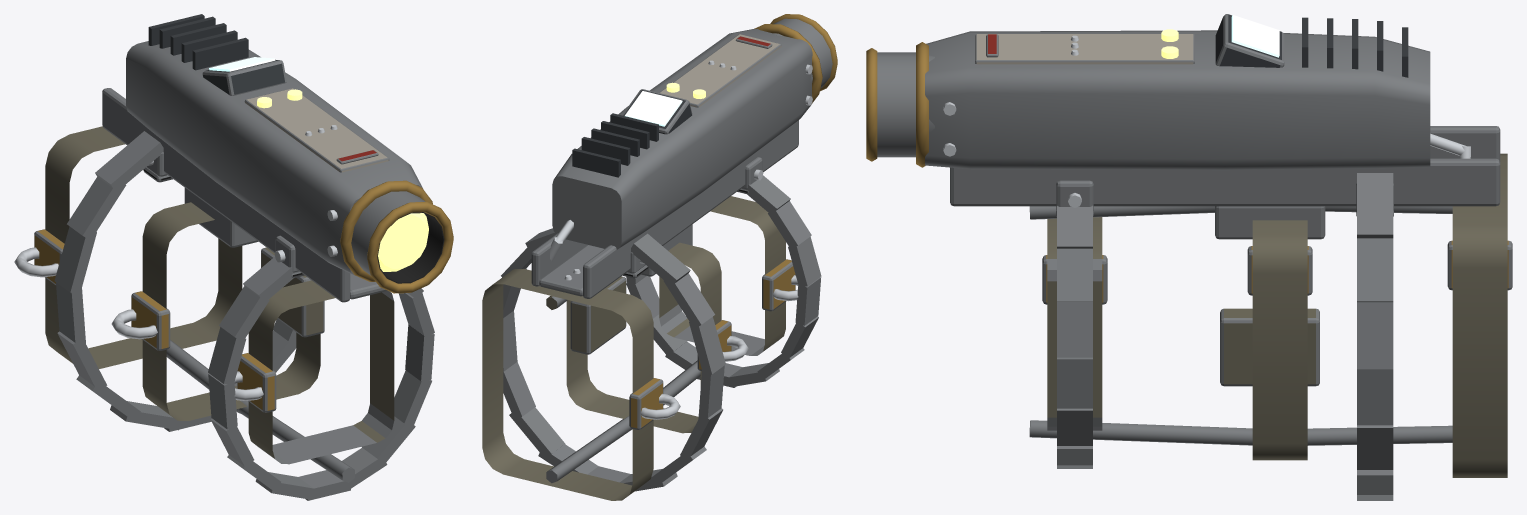
File: ruin_scanner.fbx
3 views of the same model, side by side, from view 1: azimuth 30°, elevation 25°; view 2: azimuth 150°, elevation 25°; view 3: azimuth 270°, elevation 25° (orthographic). The views are drawn at different scales.
Parts seen in each view (by area): view 1: Mesh_ArmCuff_Webbing, Mesh_RuinScanner_Housing, Mesh_RuinScanner_ClampFront, Mesh_RuinScanner_ClampRear, Mesh_RuinScanner_Hood, Mesh_RuinScanner_Spine, Mesh_RuinScanner_Panel, Mesh_RuinScanner_Heatsink, Mesh_RuinScanner_Lens, Mesh_RuinScanner_Readout, Mesh_RuinScanner_Screen; view 2: Mesh_ArmCuff_Webbing, Mesh_RuinScanner_Housing, Mesh_RuinScanner_ClampRear, Mesh_RuinScanner_ClampFront, Mesh_RuinScanner_Spine, Mesh_RuinScanner_Panel, Mesh_RuinScanner_Heatsink, Mesh_RuinScanner_Hood, Mesh_RuinScanner_Screen, Mesh_RuinScanner_Readout, Mesh_RuinScanner_Conduit; view 3: Mesh_RuinScanner_Housing, Mesh_ArmCuff_Webbing, Mesh_RuinScanner_Spine, Mesh_RuinScanner_ClampRear, Mesh_RuinScanner_ClampFront, Mesh_RuinScanner_Hood, Mesh_RuinScanner_Panel, Mesh_RuinScanner_Readout, Mesh_RuinScanner_Heatsink, Mesh_RuinScanner_Screen.
Boxes of the visible parts, x1=… form: Mesh_ArmCuff_Webbing: x1=14, y1=126, x2=394, y2=482; Mesh_RuinScanner_Housing: x1=126, y1=41, x2=422, y2=275; Mesh_RuinScanner_ClampFront: x1=208, y1=235, x2=434, y2=500; Mesh_RuinScanner_ClampRear: x1=54, y1=131, x2=296, y2=431; Mesh_RuinScanner_Hood: x1=340, y1=180, x2=453, y2=293; Mesh_RuinScanner_Spine: x1=102, y1=88, x2=387, y2=302; Mesh_RuinScanner_Panel: x1=244, y1=88, x2=389, y2=172; Mesh_RuinScanner_Heatsink: x1=148, y1=14, x2=248, y2=70; Mesh_RuinScanner_Lens: x1=378, y1=213, x2=428, y2=271; Mesh_RuinScanner_Readout: x1=202, y1=59, x2=286, y2=95; Mesh_RuinScanner_Screen: x1=209, y1=57, x2=275, y2=71; Mesh_ArmCuff_Webbing: x1=482, y1=196, x2=798, y2=500; Mesh_RuinScanner_Housing: x1=552, y1=29, x2=812, y2=249; Mesh_RuinScanner_ClampRear: x1=501, y1=228, x2=725, y2=491; Mesh_RuinScanner_ClampFront: x1=626, y1=157, x2=821, y2=387; Mesh_RuinScanner_Spine: x1=531, y1=120, x2=798, y2=298; Mesh_RuinScanner_Panel: x1=659, y1=34, x2=781, y2=107; Mesh_RuinScanner_Heatsink: x1=572, y1=113, x2=658, y2=177; Mesh_RuinScanner_Hood: x1=754, y1=14, x2=837, y2=103; Mesh_RuinScanner_Screen: x1=625, y1=91, x2=682, y2=126; Mesh_RuinScanner_Readout: x1=622, y1=89, x2=692, y2=134; Mesh_RuinScanner_Conduit: x1=550, y1=220, x2=573, y2=261; Mesh_RuinScanner_Housing: x1=925, y1=30, x2=1430, y2=170; Mesh_ArmCuff_Webbing: x1=1029, y1=153, x2=1512, y2=477; Mesh_RuinScanner_Spine: x1=950, y1=126, x2=1500, y2=206; Mesh_RuinScanner_ClampRear: x1=1356, y1=173, x2=1393, y2=500; Mesh_RuinScanner_ClampFront: x1=1056, y1=180, x2=1093, y2=468; Mesh_RuinScanner_Hood: x1=866, y1=42, x2=934, y2=167; Mesh_RuinScanner_Panel: x1=975, y1=29, x2=1194, y2=64; Mesh_RuinScanner_Readout: x1=1215, y1=14, x2=1284, y2=67; Mesh_RuinScanner_Heatsink: x1=1302, y1=17, x2=1408, y2=77; Mesh_RuinScanner_Screen: x1=1231, y1=15, x2=1279, y2=57.
Bounding box in the file's own units: 13.43 × 20.22 × 25.85.
